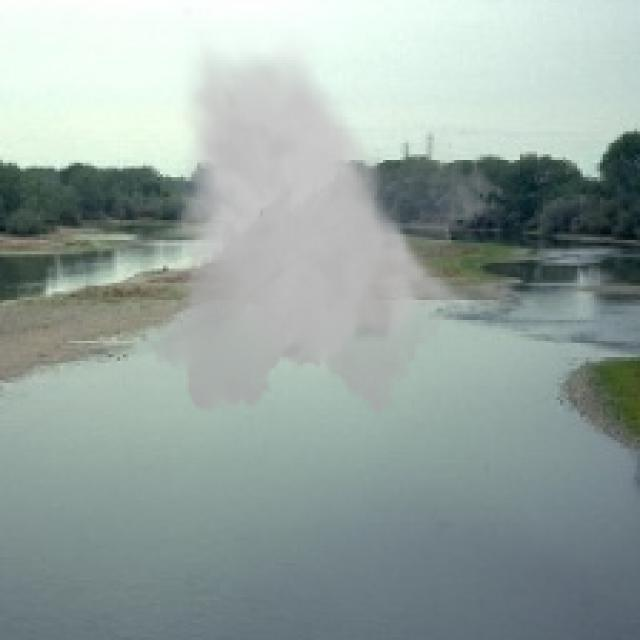Smoke: (140, 28, 506, 423)
